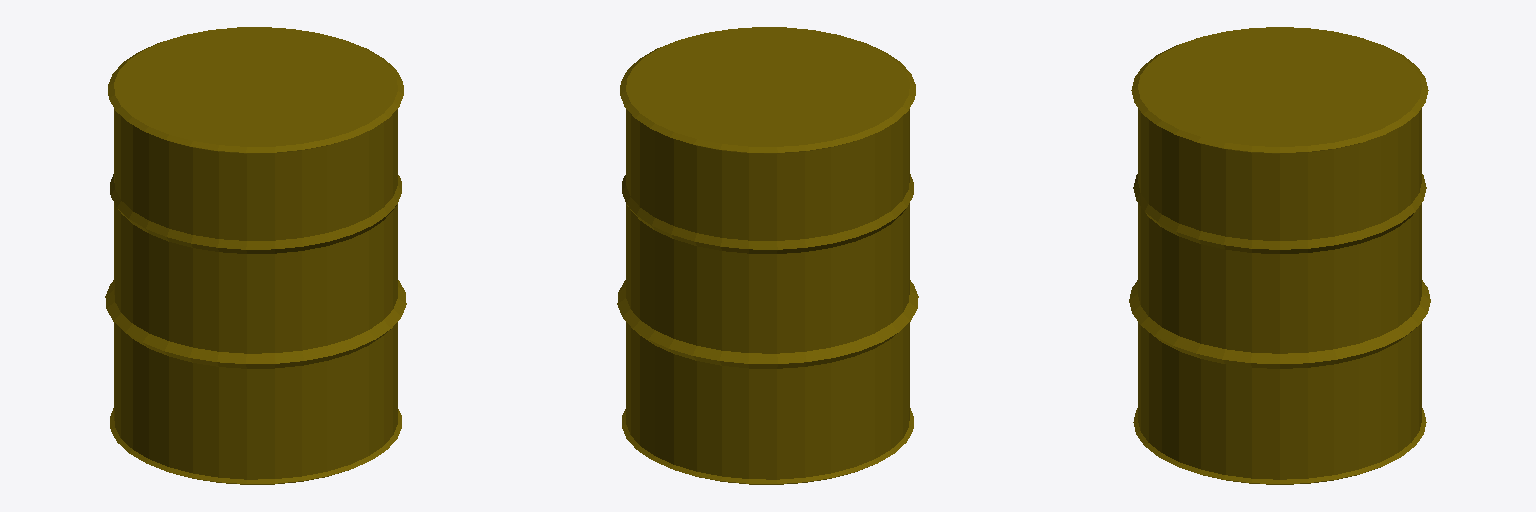
File: Yellow_Barrel.obj
The picture shows the model from 3 angles: view 1: azimuth 30°, elevation 25°; view 2: azimuth 150°, elevation 25°; view 3: azimuth 270°, elevation 25°; orthographic projection.
Visible parts, largest first — view 1: Cylinder; view 2: Cylinder; view 3: Cylinder.
Part boxes in pixels (left/top/right/bottom): Cylinder: left=105, top=27, right=406, bottom=484; Cylinder: left=617, top=27, right=918, bottom=484; Cylinder: left=1129, top=27, right=1430, bottom=484.
Bounding box in the file's own units: 2.12 × 2.62 × 2.12.